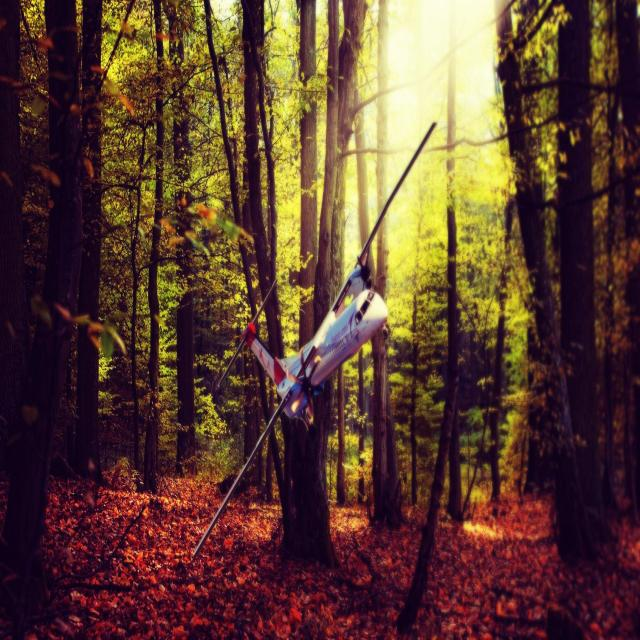airplane: (192, 121, 437, 559)
